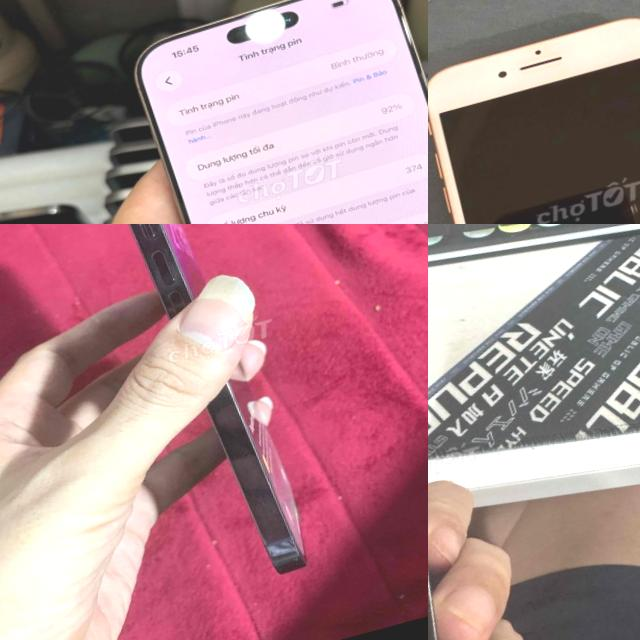scratch: (428, 529, 446, 616)
